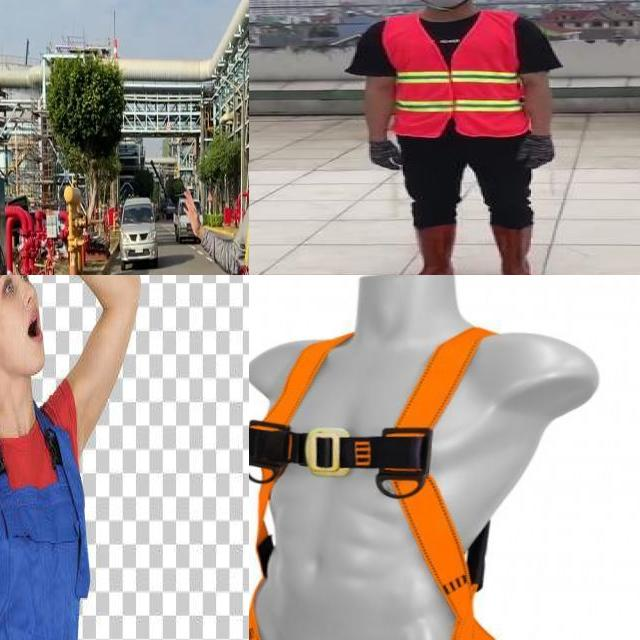Harness: (249, 327, 495, 640)
No_Glasses: (0, 275, 33, 307)
boots: (493, 227, 550, 275), (404, 225, 456, 275)
face_nomask: (6, 289, 46, 373)
hand_glove: (513, 133, 554, 170), (367, 141, 405, 171)
person: (347, 0, 577, 275)
vest: (382, 12, 529, 138)
